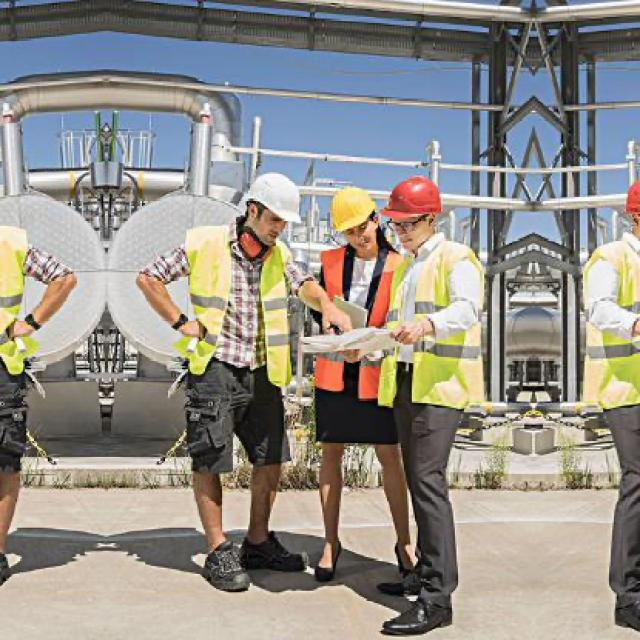helmet: (238, 160, 306, 262), (375, 160, 450, 252), (322, 178, 386, 251), (615, 160, 640, 254)
